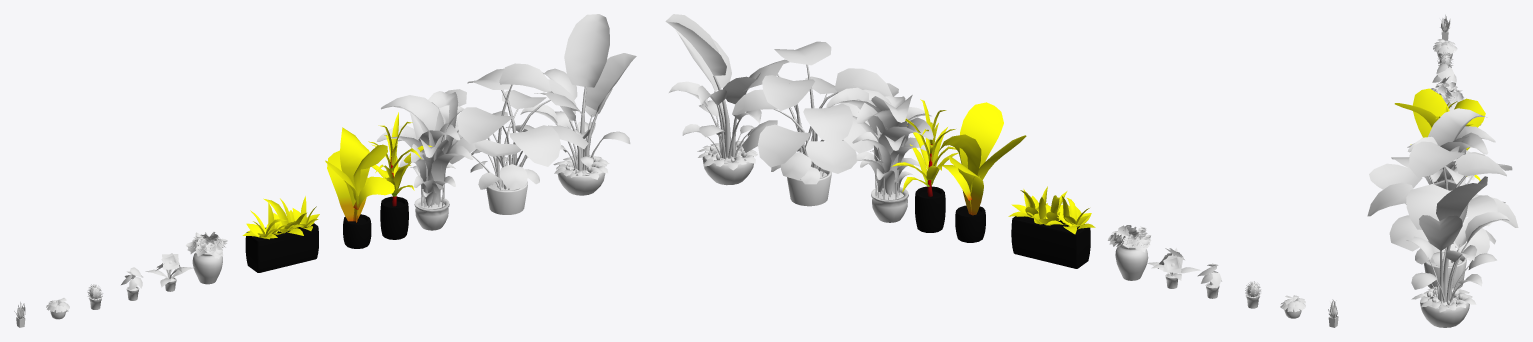
File: RoomsByPixictV2.fbx_Plants.fbx
3 renders of one model, left to right at view 1: azimuth 30°, elevation 25°; view 2: azimuth 150°, elevation 25°; view 3: azimuth 270°, elevation 25°, orthographic. The views are drawn at different scales.
Visible parts, largest first — view 1: Prop_Mansion_Plants_Houseplant_03_LOD0.mo, Prop_Mansion_Plants_Houseplant_02_LOD0.mo, Prop_Mansion_Plants_Houseplant_01_LOD0.mo, Agency_Planter_03_LOD0.mo, Agency_Planter_02_LOD0.mo, Agency_Planter_01_LOD0.mo, Prop_Mansion_Plants_Houseplant_04_LOD0.mo, Prop_Potted_Plant_05_LOD0.mo; view 2: Prop_Mansion_Plants_Houseplant_03_LOD0.mo, Prop_Mansion_Plants_Houseplant_02_LOD0.mo, Prop_Mansion_Plants_Houseplant_01_LOD0.mo, Agency_Planter_03_LOD0.mo, Agency_Planter_02_LOD0.mo, Agency_Planter_01_LOD0.mo, Prop_Mansion_Plants_Houseplant_04_LOD0.mo, Prop_Potted_Plant_05_LOD0.mo, Prop_Potted_Plant_04_LOD0.mo; view 3: Prop_Mansion_Plants_Houseplant_03_LOD0.mo, Prop_Mansion_Plants_Houseplant_02_LOD0.mo, Prop_Mansion_Plants_Houseplant_01_LOD0.mo, Agency_Planter_03_LOD0.mo, Prop_Mansion_Plants_Houseplant_04_LOD0.mo, SM_Suburban_Plant_03_LOD0.mo, Prop_Potted_Plant_04_LOD0.mo, CP_Snakeplant_01_LOD0.mo, Prop_Potted_Plant_02_LOD0.mo.
Part boxes in pixels (x1,y1,x2,y2): Prop_Mansion_Plants_Houseplant_03_LOD0.mo: (445, 63, 588, 214); Prop_Mansion_Plants_Houseplant_02_LOD0.mo: (520, 14, 636, 195); Prop_Mansion_Plants_Houseplant_01_LOD0.mo: (376, 91, 473, 230); Agency_Planter_03_LOD0.mo: (325, 127, 394, 248); Agency_Planter_02_LOD0.mo: (242, 196, 319, 272); Agency_Planter_01_LOD0.mo: (368, 112, 432, 239); Prop_Mansion_Plants_Houseplant_04_LOD0.mo: (186, 232, 227, 284); Prop_Potted_Plant_05_LOD0.mo: (145, 253, 194, 291); Prop_Mansion_Plants_Houseplant_03_LOD0.mo: (732, 41, 898, 206); Prop_Mansion_Plants_Houseplant_02_LOD0.mo: (665, 14, 761, 185); Prop_Mansion_Plants_Houseplant_01_LOD0.mo: (826, 87, 933, 222); Agency_Planter_03_LOD0.mo: (938, 102, 1026, 242); Agency_Planter_02_LOD0.mo: (1008, 186, 1095, 268); Agency_Planter_01_LOD0.mo: (891, 99, 958, 232); Prop_Mansion_Plants_Houseplant_04_LOD0.mo: (1107, 225, 1150, 280); Prop_Potted_Plant_05_LOD0.mo: (1146, 248, 1200, 288); Prop_Potted_Plant_04_LOD0.mo: (1197, 263, 1221, 298); Prop_Mansion_Plants_Houseplant_03_LOD0.mo: (1367, 141, 1518, 289); Prop_Mansion_Plants_Houseplant_02_LOD0.mo: (1406, 176, 1510, 327); Prop_Mansion_Plants_Houseplant_01_LOD0.mo: (1407, 108, 1495, 243); Agency_Planter_03_LOD0.mo: (1394, 88, 1485, 137); Prop_Mansion_Plants_Houseplant_04_LOD0.mo: (1430, 82, 1464, 110); SM_Suburban_Plant_03_LOD0.mo: (1433, 39, 1457, 58); Prop_Potted_Plant_04_LOD0.mo: (1432, 63, 1456, 84); CP_Snakeplant_01_LOD0.mo: (1439, 14, 1450, 40); Prop_Potted_Plant_02_LOD0.mo: (1437, 52, 1452, 67).
Bounding box in the file's own units: 1651 × 392 × 340.
